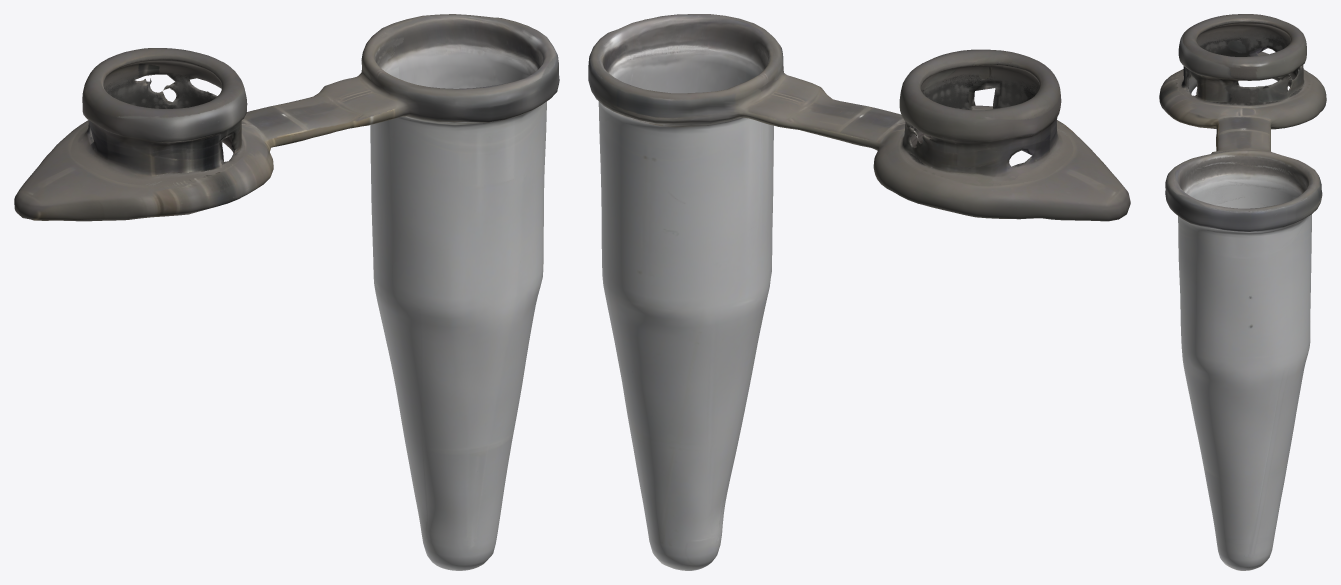
Rendered from Microcentrifuge_Tube_0813050730_texture.fbx.
The picture shows the model from 3 angles, left to right: view 1: azimuth 30°, elevation 25°; view 2: azimuth 150°, elevation 25°; view 3: azimuth 270°, elevation 25°; orthographic projection. The views are drawn at different scales.
Visible parts, largest first — view 1: input; view 2: input; view 3: input.
Part boxes in pixels (bbox=[...]): input: bbox=[14, 14, 559, 570]; input: bbox=[588, 14, 1130, 570]; input: bbox=[1159, 14, 1326, 570].
Size of the model in its own units: 196 by 199 by 71.55.
1 material, 1 textured.
